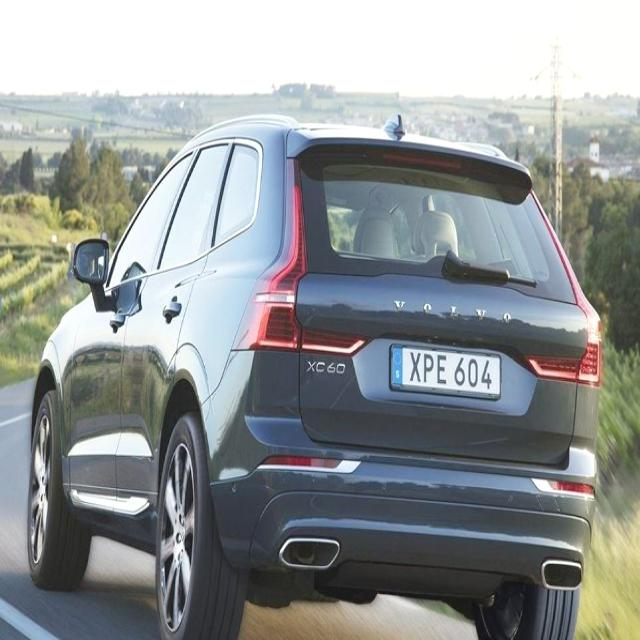car: (24, 105, 606, 640)
illegal_plate: (389, 341, 502, 406)
